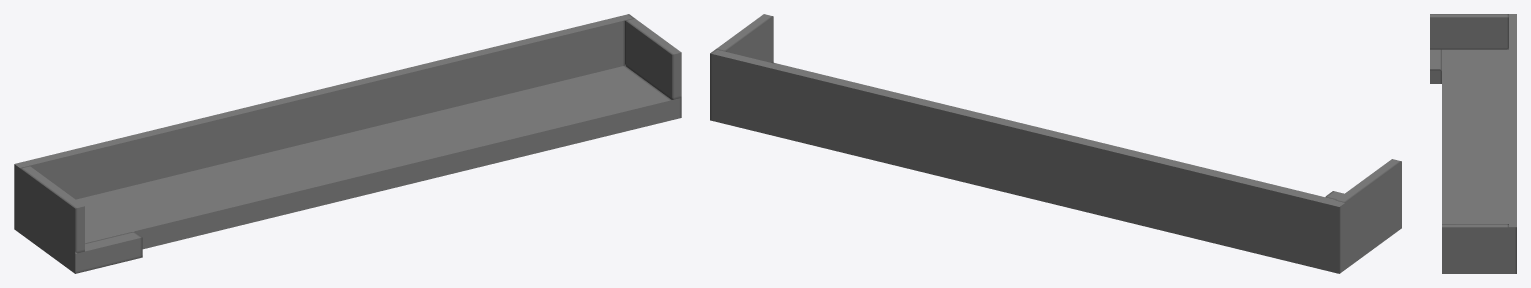
File: balkon_do_chodzenia.dae
3 views of the same model, side by side, from view 1: azimuth 30°, elevation 25°; view 2: azimuth 150°, elevation 25°; view 3: azimuth 270°, elevation 25° (orthographic). The views are drawn at different scales.
Visible parts, largest first — view 1: Content; view 2: Content; view 3: Content.
Boxes of the visible parts, <box> form: Content: <box>14,14,681,273</box>; Content: <box>710,14,1401,273</box>; Content: <box>1430,14,1516,273</box>.
Size of the model in its own units: 128 by 13 by 22.
Materials: 1 (1 with a texture image).
